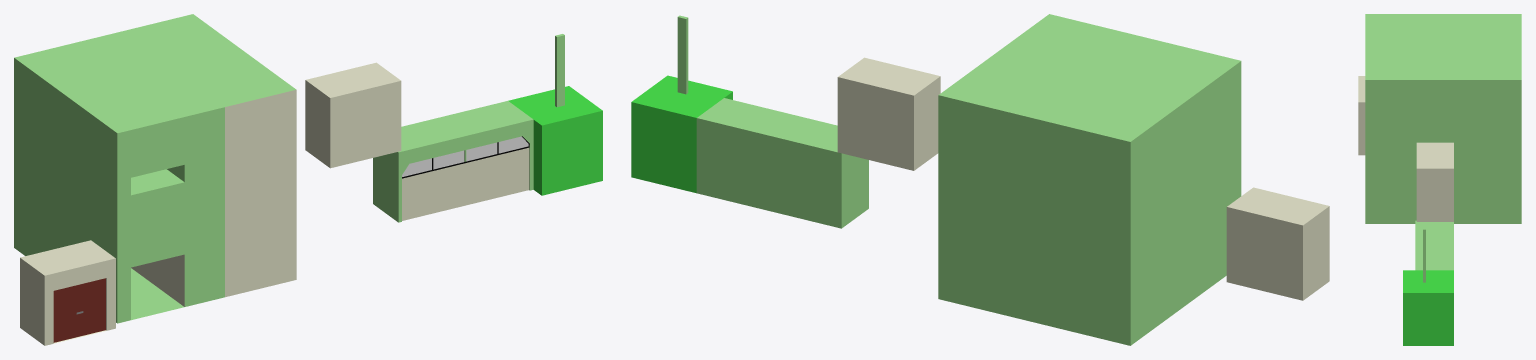
File: Prefabs.fbx
3 views of the same model, side by side, from view 1: azimuth 30°, elevation 25°; view 2: azimuth 150°, elevation 25°; view 3: azimuth 270°, elevation 25° (orthographic). The views are drawn at different scales.
Visible parts, largest first — view 1: BLD_TopWindow, BLD_Entrace, BLD_WALL, BLD_DORWALL, BLD_LeftHallway .001, BLD_BIGCOLUMN, BLD_Righthallway .001, BLD_COLUMN; view 2: BLD_TopWindow, BLD_Entrace, BLD_DORWALL, BLD_WALL, BLD_LeftHallway .001, BLD_Righthallway .001, BLD_BIGCOLUMN, BLD_COLUMN; view 3: BLD_TopWindow, BLD_Entrace, BLD_BIGCOLUMN, BLD_WALL, BLD_Righthallway .001, BLD_LeftHallway .001, BLD_DORWALL, BLD_COLUMN.
Boxes of the visible parts, x1,y1,x2,y2 form: BLD_TopWindow: (14, 14, 296, 253); BLD_Entrace: (14, 178, 296, 323); BLD_WALL: (305, 62, 401, 168); BLD_DORWALL: (20, 240, 115, 345); BLD_LeftHallway .001: (373, 117, 465, 222); BLD_BIGCOLUMN: (508, 86, 602, 195); BLD_Righthallway .001: (441, 101, 533, 205); BLD_COLUMN: (555, 34, 564, 107); BLD_TopWindow: (938, 14, 1241, 270); BLD_Entrace: (938, 190, 1241, 345); BLD_DORWALL: (1226, 187, 1329, 300); BLD_WALL: (837, 57, 940, 170); BLD_LeftHallway .001: (769, 115, 868, 228); BLD_Righthallway .001: (696, 98, 796, 210); BLD_BIGCOLUMN: (631, 75, 732, 193); BLD_COLUMN: (677, 15, 688, 94); BLD_TopWindow: (1365, 14, 1521, 170); BLD_Entrace: (1365, 170, 1521, 223); BLD_BIGCOLUMN: (1403, 270, 1453, 345); BLD_WALL: (1416, 142, 1453, 221); BLD_Righthallway .001: (1415, 245, 1453, 270); BLD_LeftHallway .001: (1415, 220, 1453, 245); BLD_DORWALL: (1358, 76, 1365, 155); BLD_COLUMN: (1423, 226, 1425, 282).
Size of the model in its own units: 8205 by 2537 by 2616.
